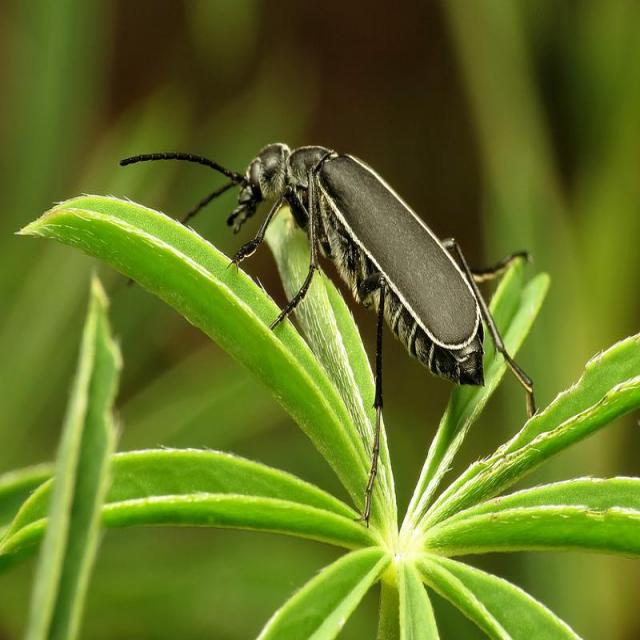BlisterBeetle-Adult-: (106, 141, 540, 504)
